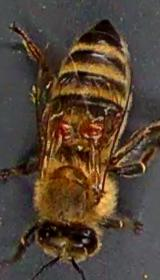varroa_mite: (75, 111, 108, 145), (54, 114, 76, 146)
